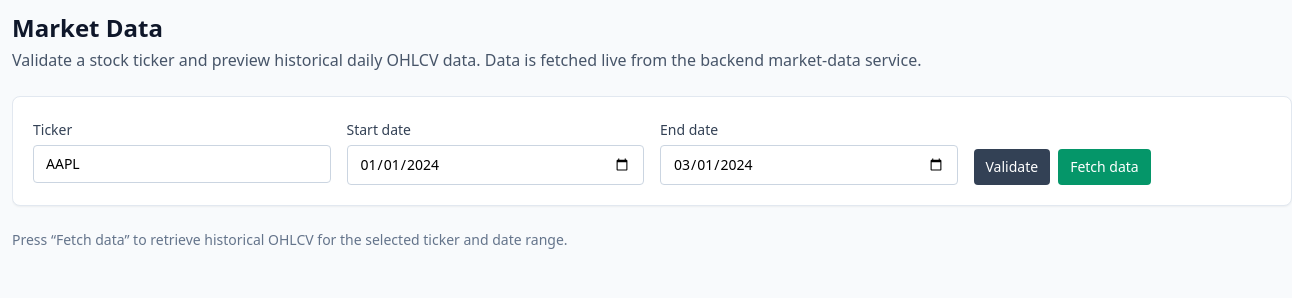
MarketDataPage (Phase 3) › shows the error message when validation fails
This screenshot has width=1292, height=298.
Click the button "Validate" at (1012, 167), box [974,149,1050,185]
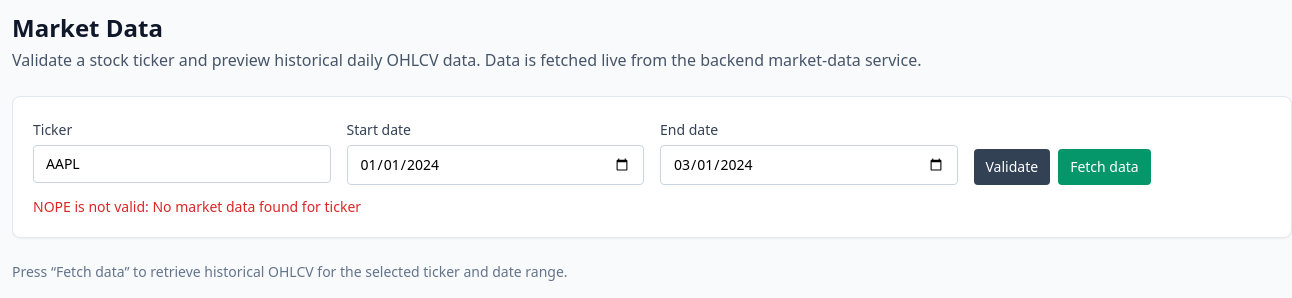
Result: the text with test id "validation-result" shows "not valid" at [33,197,361,216]
